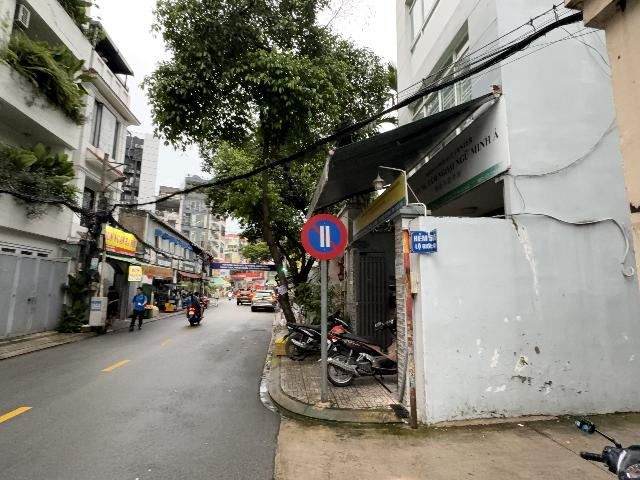cam-do-xe-ngay-chan: (302, 213, 348, 260)
